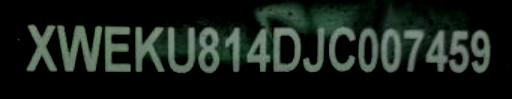letter: (55, 22, 101, 73), (20, 22, 60, 73), (100, 22, 134, 73), (134, 22, 166, 73), (164, 24, 196, 75), (270, 25, 302, 72), (194, 24, 222, 77), (326, 25, 356, 74), (244, 23, 272, 74), (400, 25, 426, 74), (302, 25, 326, 76), (424, 26, 448, 75), (222, 25, 244, 76), (470, 28, 494, 73), (357, 25, 379, 72), (380, 25, 402, 72), (449, 27, 471, 74)
